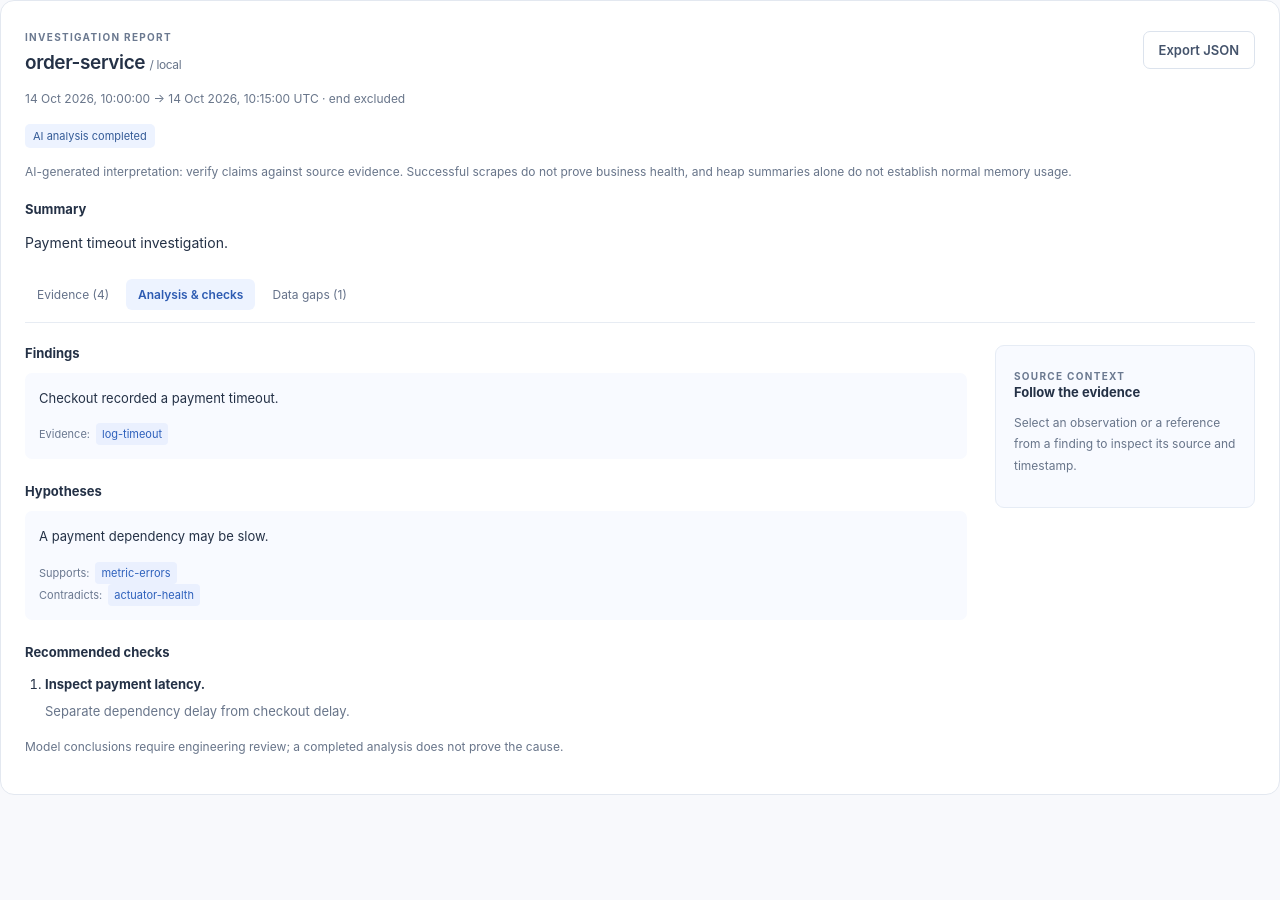
Test: investigation report › honours reduced motion and does not return focus to a removed reference
Click the button "Evidence (4)".
click(73, 294)  # box [25,279,121,310]
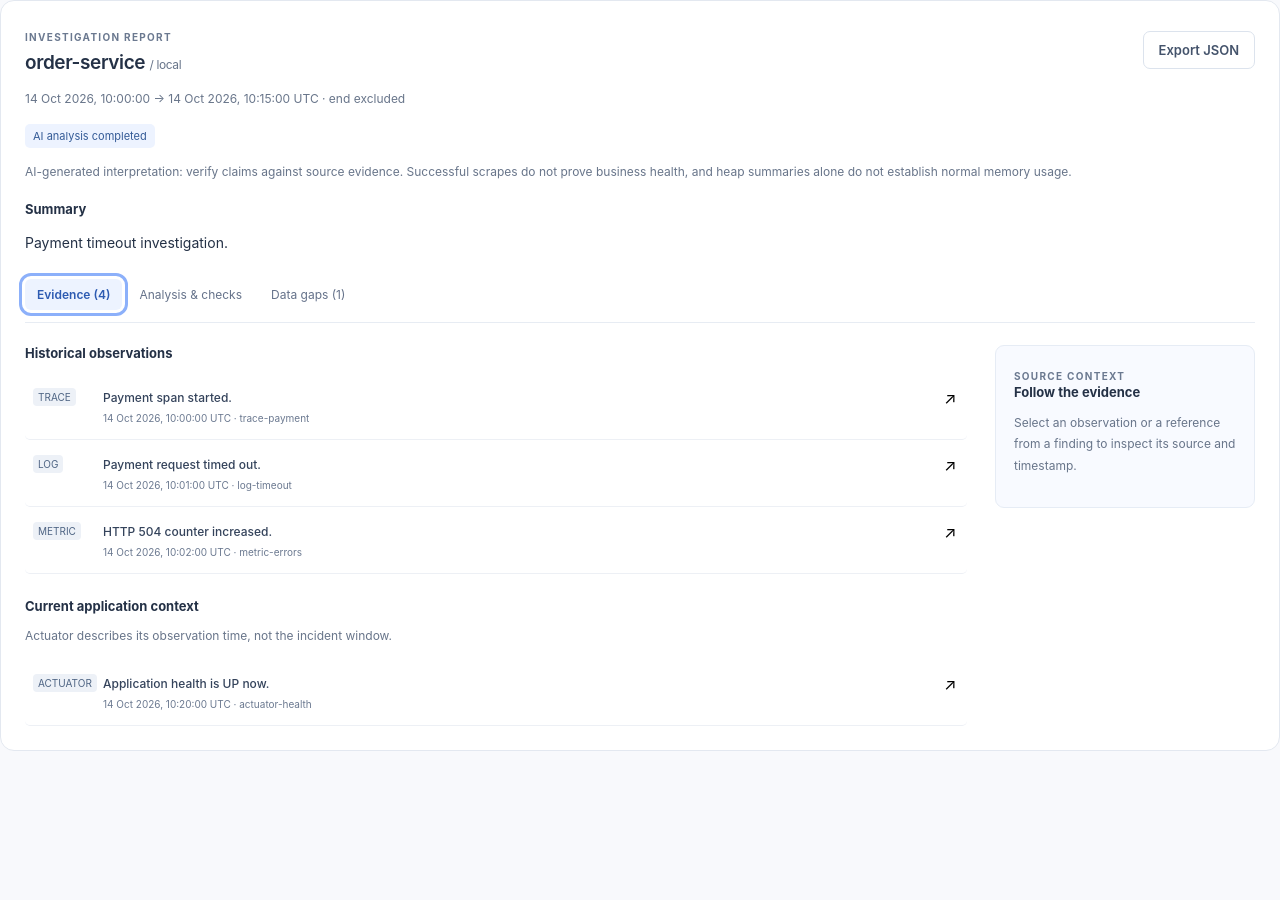
Click the button "Payment request timed out".
click(48, 464)  # box [25,440,967,507]
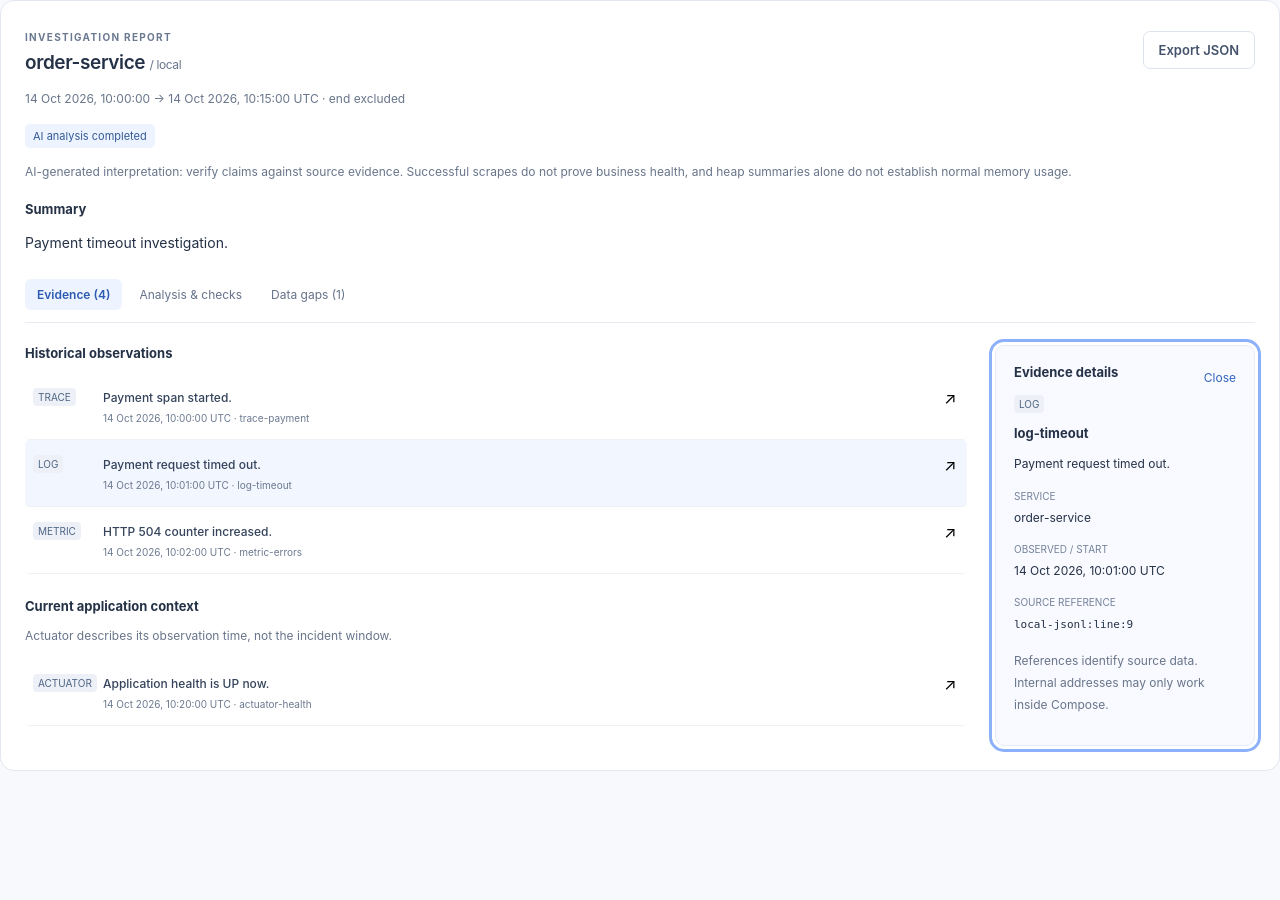
Click the button "Analysis & checks".
click(191, 294)  # box [127,279,254,310]
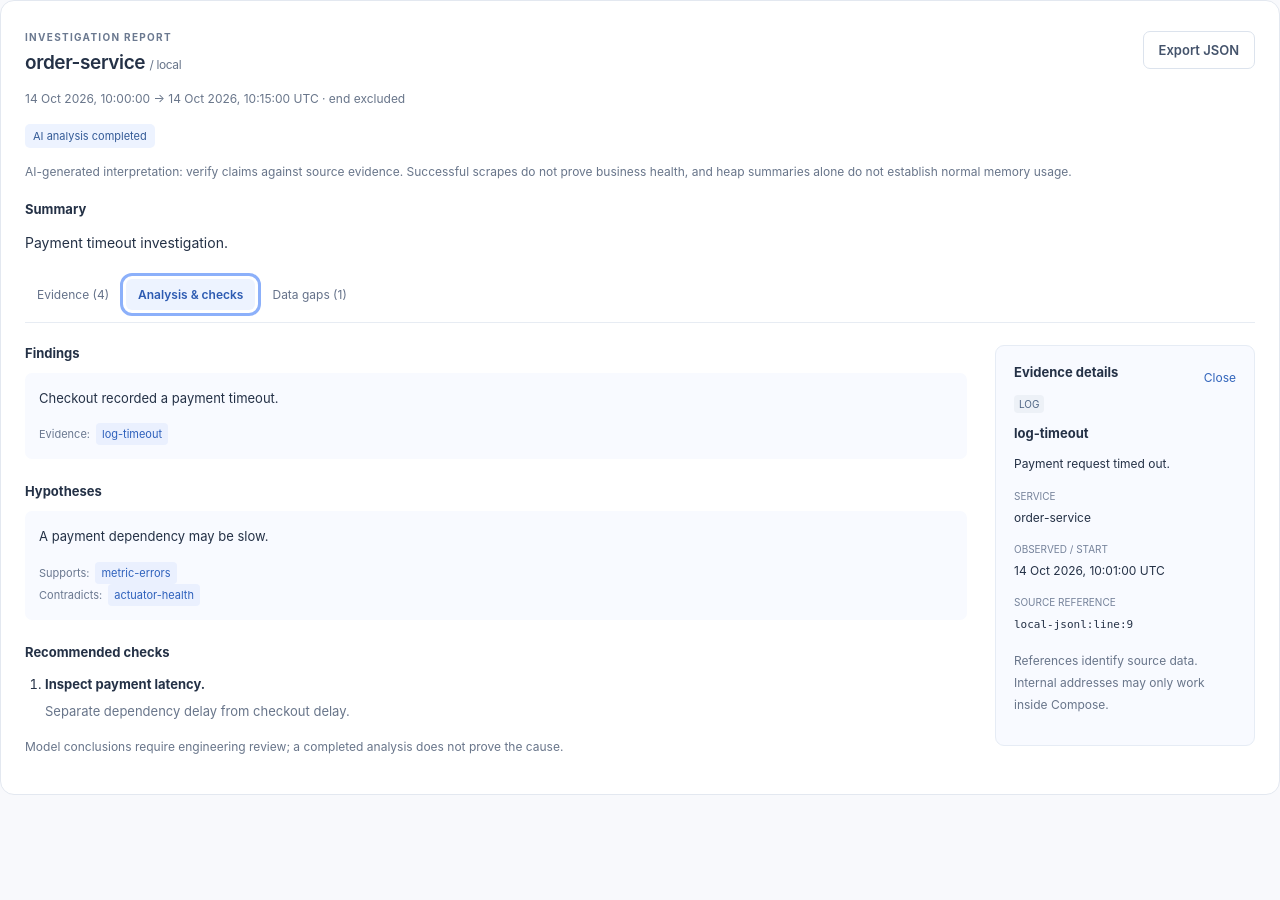
Click the button "Close".
click(1220, 378)  # box [1204,364,1236,391]
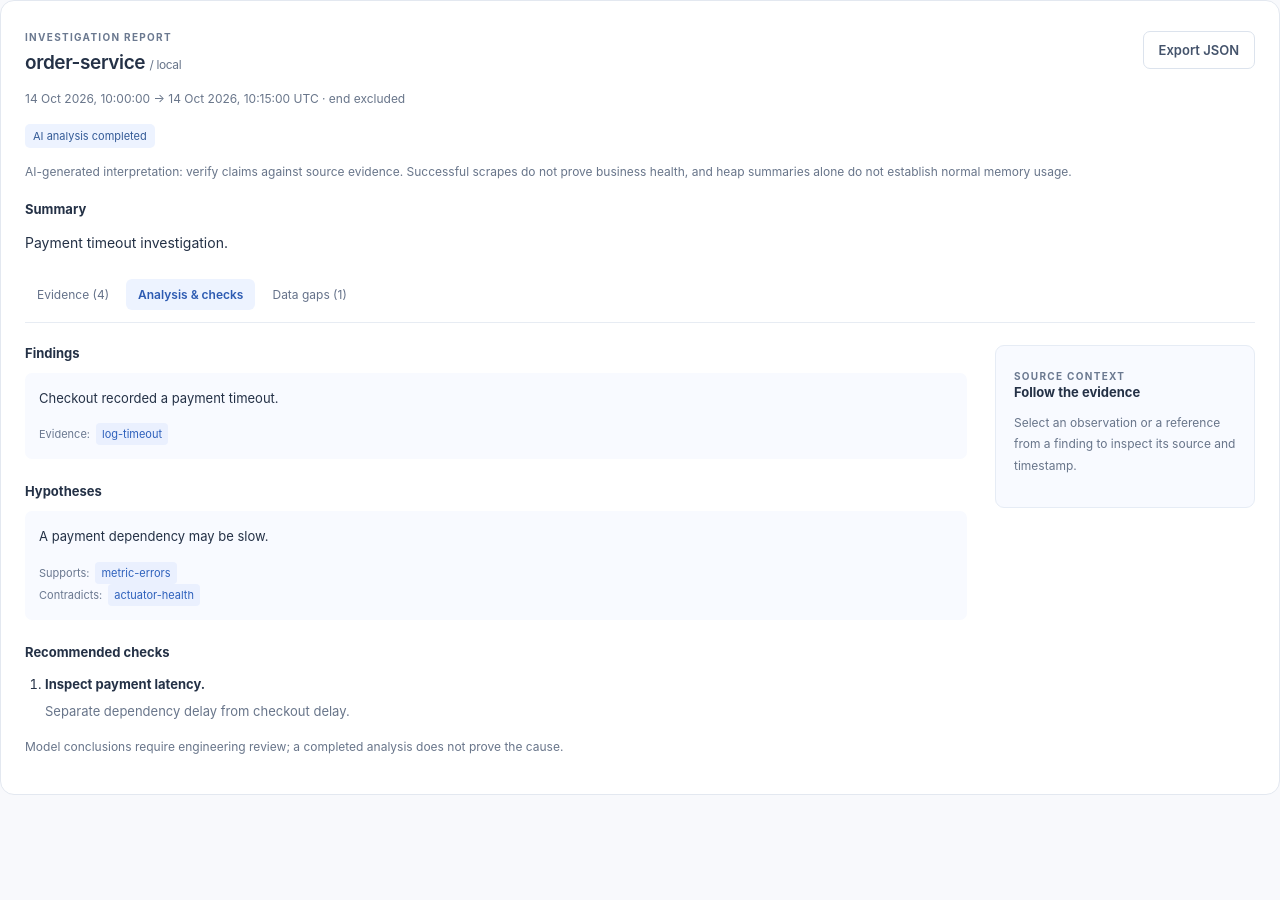
Check: the heading "Follow the evidence" is shown, box [1014,384,1140,400]
